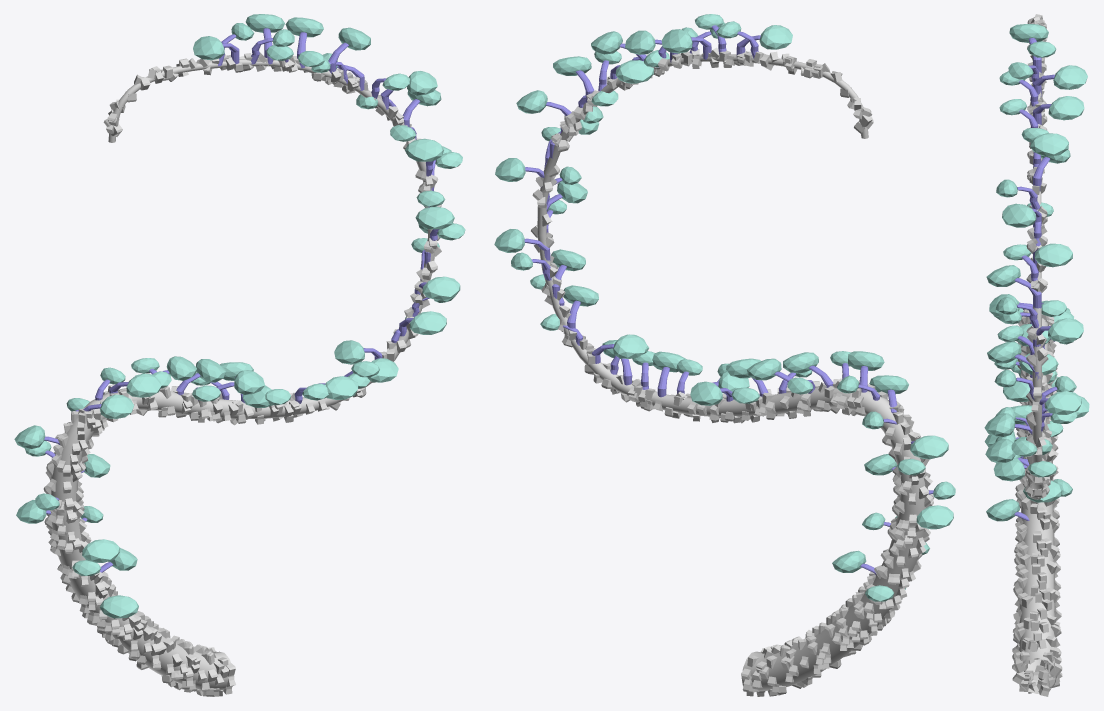
File: geometry_nodes_trees_2.fbx
The picture shows the model from 3 angles, left to right: view 1: azimuth 30°, elevation 25°; view 2: azimuth 150°, elevation 25°; view 3: azimuth 270°, elevation 25°; orthographic projection.
Parts seen in each view (by area): view 1: Geometree_2; view 2: Geometree_2; view 3: Geometree_2.
Boxes of the visible parts, x1,y1,x2,y2 form: Geometree_2: [14, 14, 465, 696]; Geometree_2: [494, 14, 955, 696]; Geometree_2: [984, 14, 1089, 696].
Size of the model in its own units: 581 by 832 by 119.
